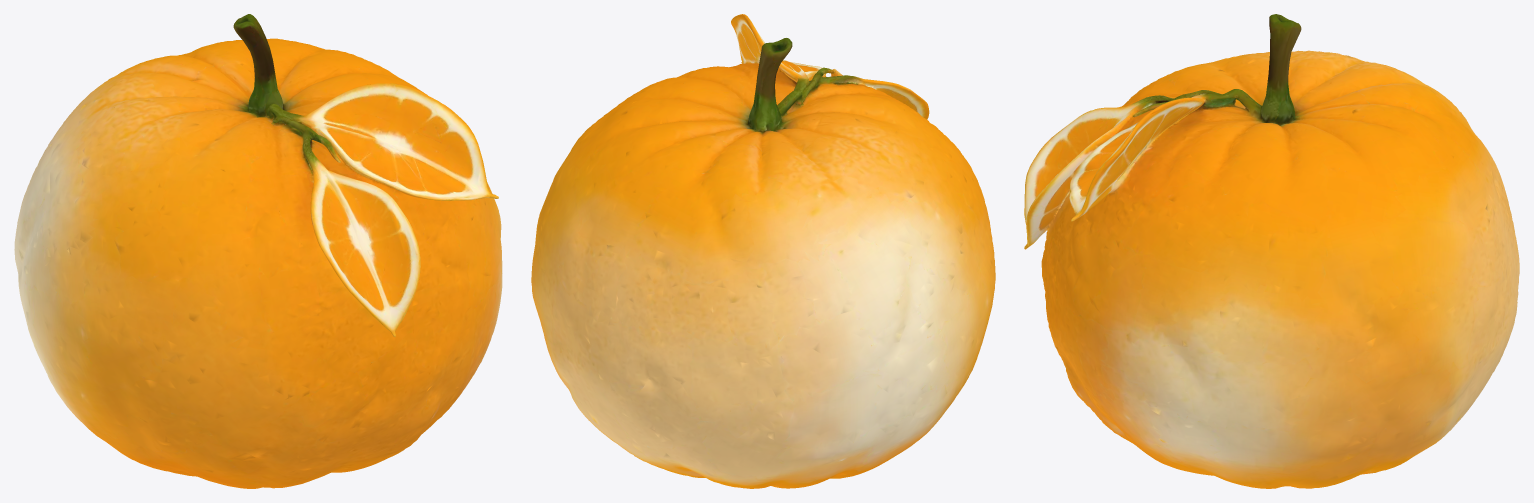
The model's file is orange.glb.
3 renders of one model, left to right at view 1: azimuth 30°, elevation 25°; view 2: azimuth 150°, elevation 25°; view 3: azimuth 270°, elevation 25°, orthographic. The views are drawn at different scales.
Visible parts, largest first — view 1: Mesh_0; view 2: Mesh_0; view 3: Mesh_0.
Part boxes in pixels (x1,y1,x2,y2): Mesh_0: (14, 14, 502, 488); Mesh_0: (531, 14, 995, 488); Mesh_0: (1024, 14, 1519, 488).
Bounding box in the file's own units: 0.0817 × 0.08 × 0.0848.
Materials: 1 (1 with a texture image).
